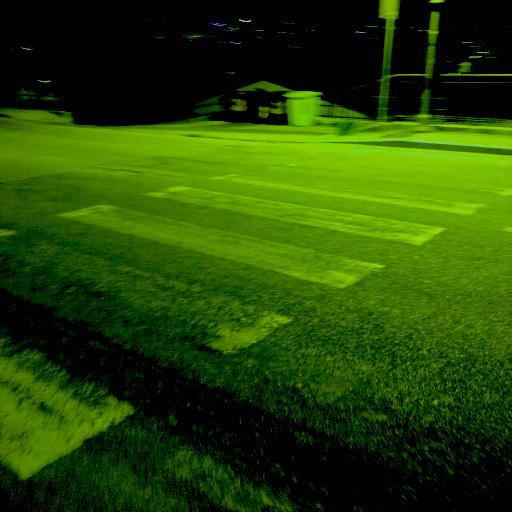crosswalk: (38, 180, 448, 293)
